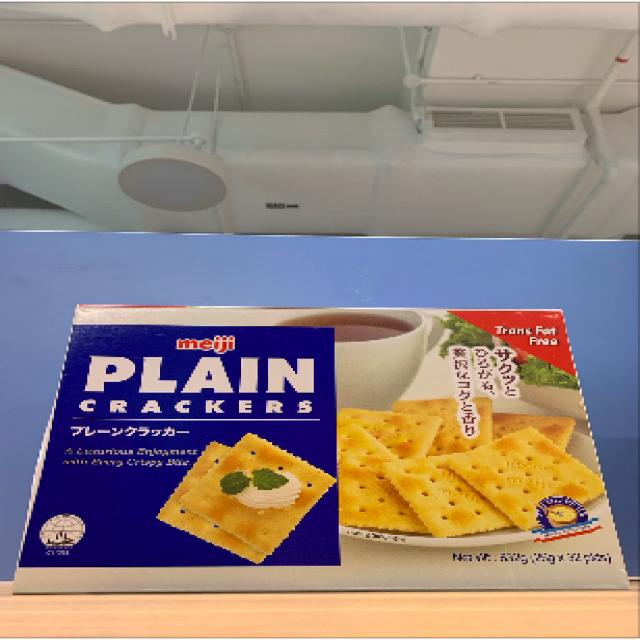object_name: (43, 307, 613, 591)
